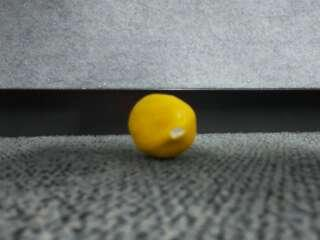lemon: (128, 94, 197, 159)
